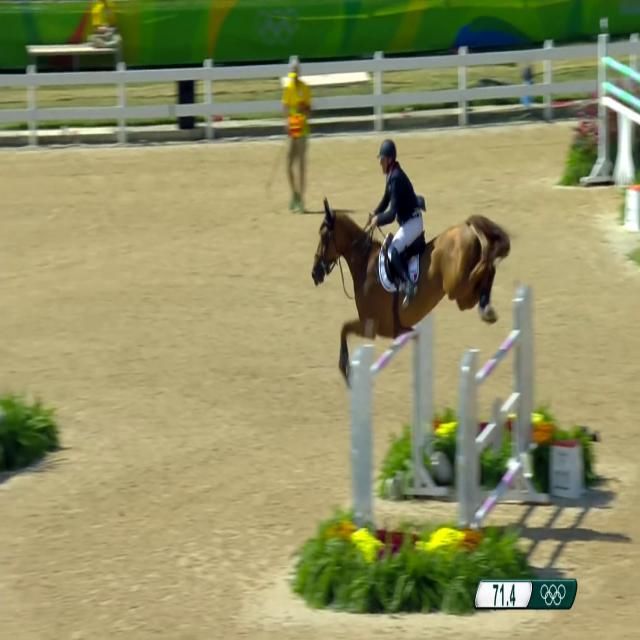Horse Rider: (361, 119, 429, 328)
Horse Running: (307, 180, 520, 408)
